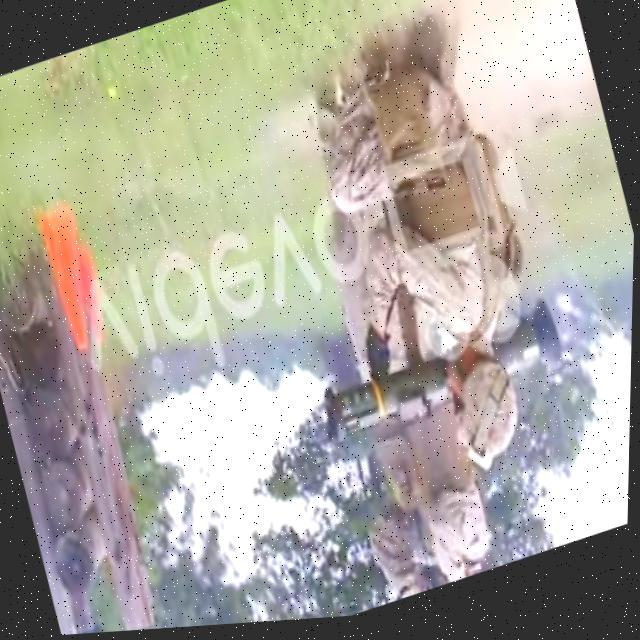rocket: (320, 305, 574, 453)
